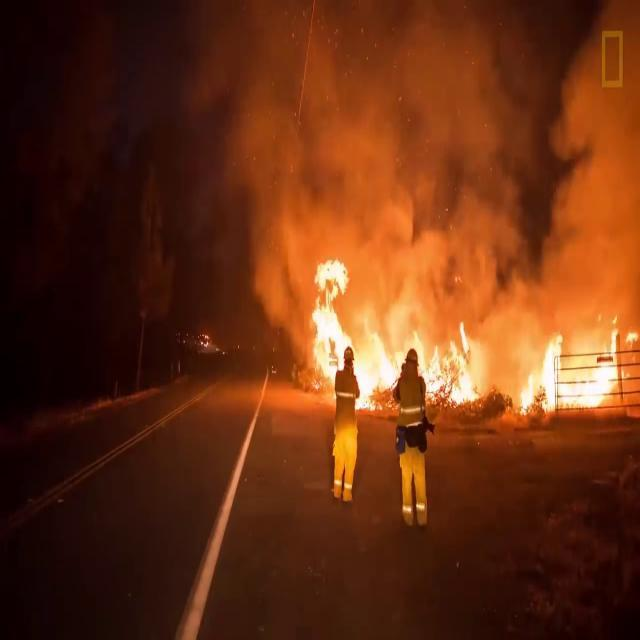Fire: (372, 342, 466, 397), (535, 352, 622, 404), (312, 276, 344, 372)
Smoke: (246, 34, 636, 255), (380, 272, 472, 326), (516, 288, 636, 326)
